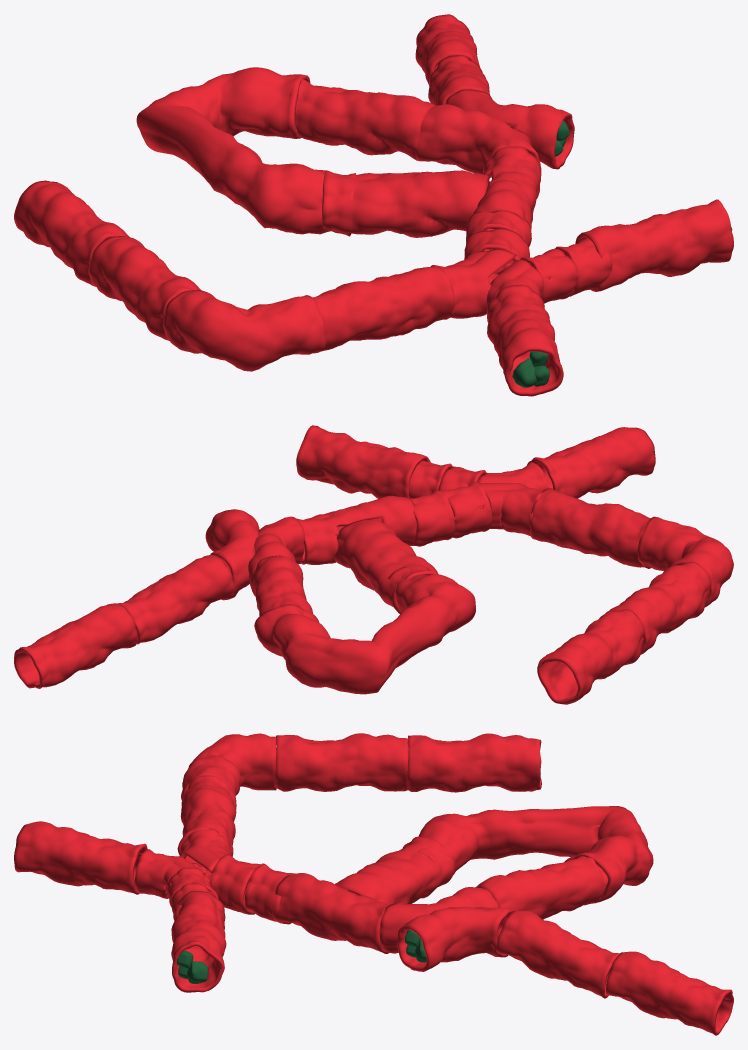
File: Small_Intes_WithoutParticle.fbx
The picture shows the model from 3 angles, top to bottom: view 1: azimuth 30°, elevation 25°; view 2: azimuth 150°, elevation 25°; view 3: azimuth 270°, elevation 25°; orthographic projection. The views are drawn at different scales.
Parts seen in each view (by area): view 1: Cylinder.011, Cylinder.010, Cylinder.004, Cylinder.012, Cylinder.007, Cylinder.017, Cylinder.006, Cylinder.005, Cylinder.008, Cylinder.016, Cylinder.014, Cylinder.009 (+4 smaller); view 2: Cylinder.011, Cylinder.012, Cylinder.019, Cylinder.007, Cylinder.008, Cylinder.006, Cylinder.016, Cylinder.018, Cylinder.010, Cylinder.005, Cylinder.004, Cylinder.013 (+4 smaller); view 3: Cylinder.011, Cylinder.006, Cylinder.005, Cylinder.016, Cylinder.019, Cylinder.018, Cylinder.013, Cylinder.017, Cylinder.015, Cylinder.008, Cylinder.010, Cylinder.012 (+4 smaller).
Part boxes in pixels (x1,y1,x2,y2): Cylinder.011: [136, 67, 356, 236]; Cylinder.010: [322, 170, 488, 237]; Cylinder.004: [163, 290, 325, 371]; Cylinder.012: [575, 199, 733, 291]; Cylinder.007: [313, 266, 454, 353]; Cylinder.017: [289, 78, 435, 160]; Cylinder.006: [14, 180, 129, 286]; Cylinder.005: [88, 236, 200, 340]; Cylinder.008: [430, 211, 531, 318]; Cylinder.016: [486, 284, 563, 396]; Cylinder.014: [414, 104, 540, 177]; Cylinder.009: [486, 238, 612, 306]; Cylinder.011: [254, 566, 475, 694]; Cylinder.012: [296, 425, 430, 498]; Cylinder.019: [14, 603, 137, 688]; Cylinder.007: [529, 488, 650, 568]; Cylinder.008: [410, 482, 543, 546]; Cylinder.006: [537, 609, 644, 704]; Cylinder.016: [527, 427, 655, 498]; Cylinder.018: [117, 554, 234, 644]; Cylinder.010: [334, 519, 438, 613]; Cylinder.005: [605, 561, 710, 654]; Cylinder.004: [637, 516, 733, 607]; Cylinder.013: [297, 495, 416, 564]; Cylinder.011: [417, 806, 653, 903]; Cylinder.006: [406, 733, 541, 792]; Cylinder.005: [274, 733, 408, 791]; Cylinder.016: [14, 821, 147, 894]; Cylinder.019: [605, 951, 733, 1035]; Cylinder.018: [496, 910, 619, 998]; Cylinder.013: [272, 873, 390, 953]; Cylinder.017: [475, 856, 604, 919]; Cylinder.015: [396, 907, 512, 971]; Cylinder.008: [179, 828, 295, 924]; Cylinder.010: [335, 836, 455, 904]; Cylinder.012: [171, 891, 226, 992].
Size of the model in its own units: 3616 by 625 by 4581.
